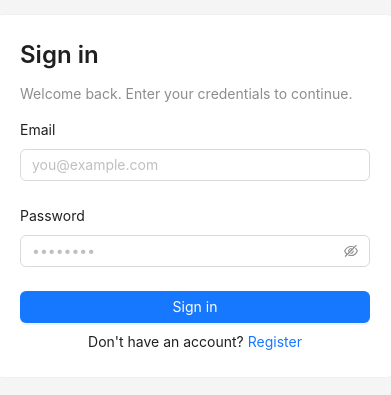
Scenario: LoginPage — 401 invalid credentials › shows the messageFor-translated error when the API returns 401
Step 1. Type "jane@example.com" into the field labelled "Email" → (195, 165), box [20,149,370,181]
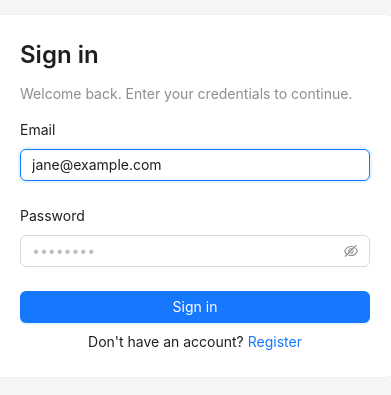
Step 2. Type "wrong-password" into the password field labelled "Password" → (186, 251), box [32,240,340,262]
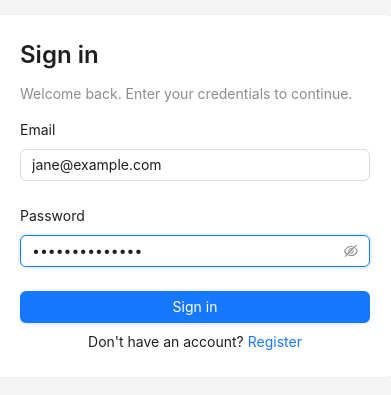
Step 3. Click the button "Sign in" → (195, 307), box [20,291,370,323]
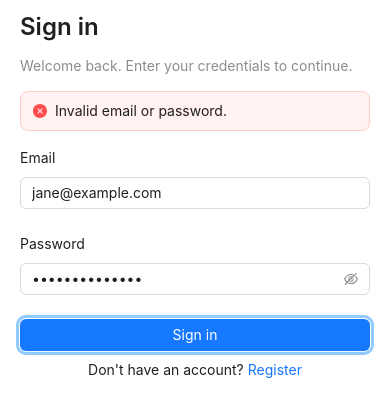
Expected: the text "Invalid email or password." is shown, [55,102,227,119]
